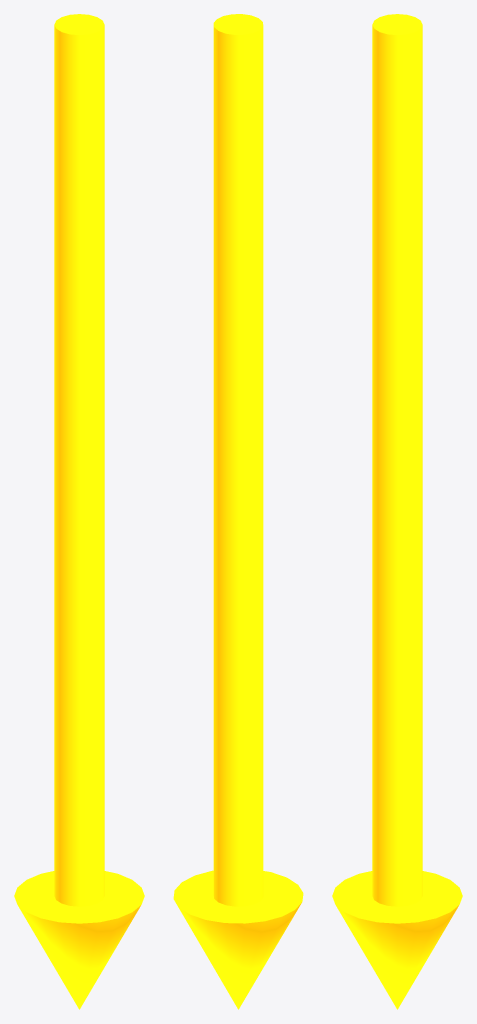
The model's file is stator_flow.glb.
3 views of the same model, side by side, from view 1: azimuth 90°, elevation 25°; view 2: azimuth 150°, elevation 25°; view 3: azimuth 270°, elevation 25° (orthographic).
Visible parts, largest first — view 1: supply; view 2: supply; view 3: supply.
Part boxes in pixels (left/top/right/bottom): supply: left=14, top=14, right=144, bottom=1009; supply: left=173, top=14, right=303, bottom=1009; supply: left=332, top=14, right=462, bottom=1009.
Size of the model in its own units: 0.0416 by 0.346 by 0.0416.
